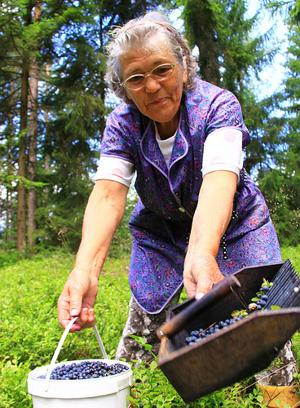person: (56, 11, 298, 390)
